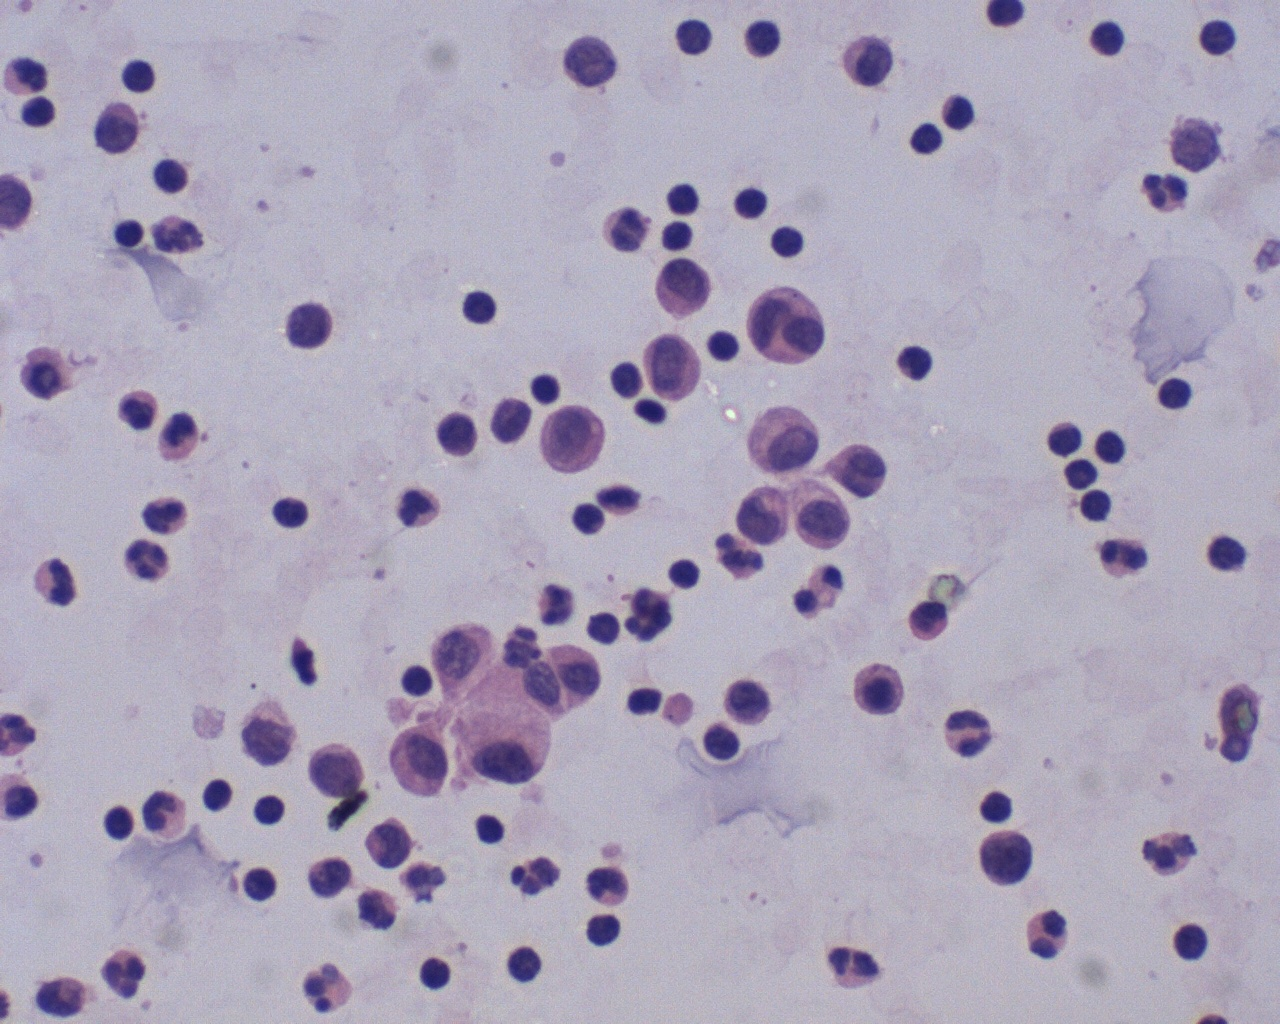ab: (540, 401, 621, 485), (741, 398, 823, 478), (639, 326, 705, 408), (979, 825, 1038, 895), (737, 479, 795, 546), (307, 744, 370, 800)
lymph: (1165, 918, 1219, 969), (455, 278, 504, 333), (1086, 11, 1130, 67), (674, 14, 718, 64), (894, 341, 940, 388), (101, 802, 146, 850), (904, 116, 953, 158), (727, 186, 775, 228), (667, 550, 707, 598), (195, 776, 245, 816), (657, 216, 701, 260), (109, 210, 150, 256), (1156, 371, 1200, 413), (415, 951, 456, 996), (249, 788, 293, 828), (121, 53, 161, 97), (770, 222, 809, 265), (1095, 426, 1133, 467)
meso: (850, 658, 908, 717)
neutro: (95, 946, 156, 1008), (1144, 165, 1198, 219), (120, 534, 174, 585), (582, 863, 637, 912), (512, 850, 565, 899)
